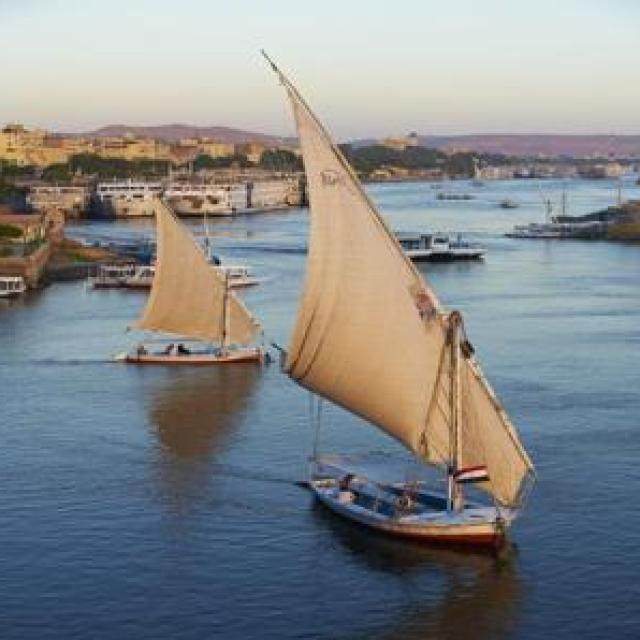houseboat: (396, 219, 493, 259)
sailboat: (276, 49, 547, 538), (111, 183, 272, 365)
